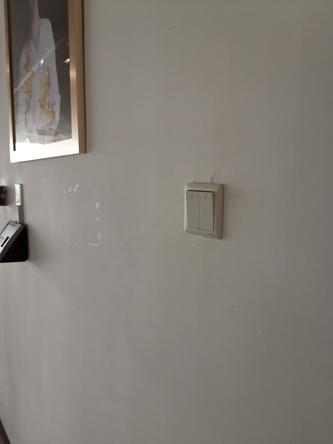switch: (196, 188, 218, 233), (184, 187, 202, 231)
